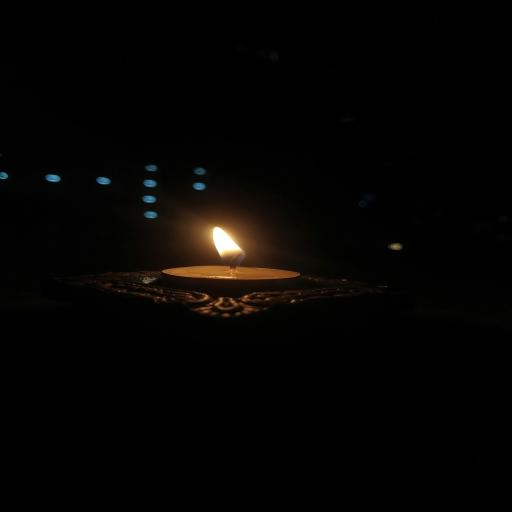candlelight: (134, 216, 368, 312)
